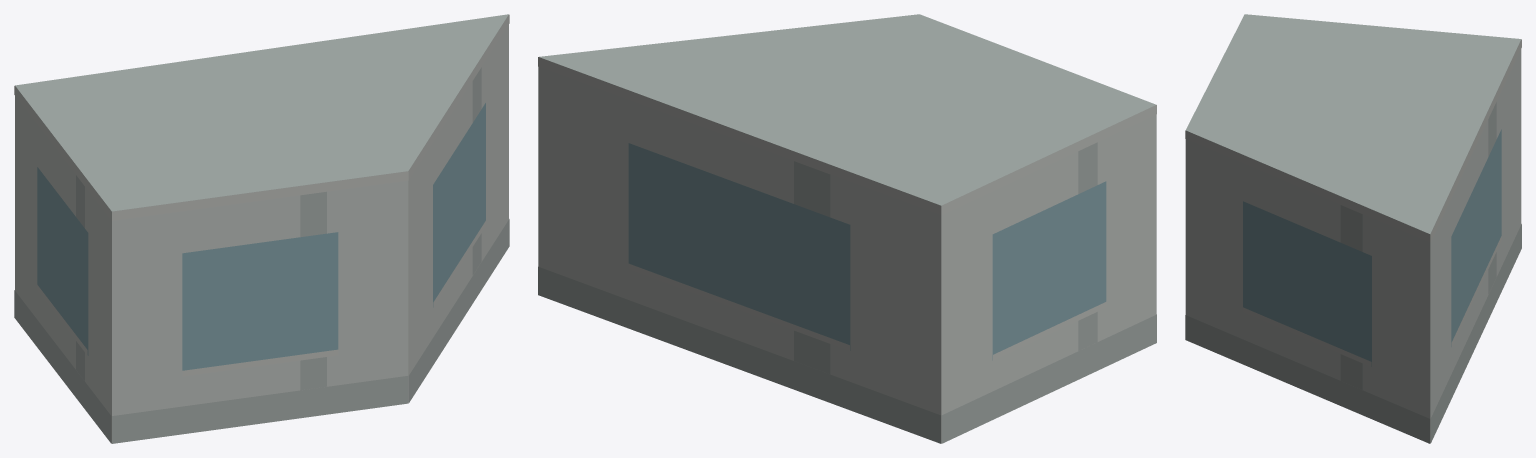
File: residential-16260b03-d70f-4e68-a0d0-198d6fa0b46c.glb
3 views of the same model, side by side, from view 1: azimuth 30°, elevation 25°; view 2: azimuth 150°, elevation 25°; view 3: azimuth 270°, elevation 25° (orthographic). The views are drawn at different scales.
Visible parts, largest first — view 1: residential-16260b03-d70f-4e68-a0d0-198d6fa0b46c.tmp; view 2: residential-16260b03-d70f-4e68-a0d0-198d6fa0b46c.tmp; view 3: residential-16260b03-d70f-4e68-a0d0-198d6fa0b46c.tmp.
Boxes of the visible parts, <box> form: residential-16260b03-d70f-4e68-a0d0-198d6fa0b46c.tmp: <box>14,14,509,443</box>; residential-16260b03-d70f-4e68-a0d0-198d6fa0b46c.tmp: <box>538,14,1156,443</box>; residential-16260b03-d70f-4e68-a0d0-198d6fa0b46c.tmp: <box>1185,14,1521,443</box>.
Size of the model in its own units: 6.88 by 3.05 by 4.44.
